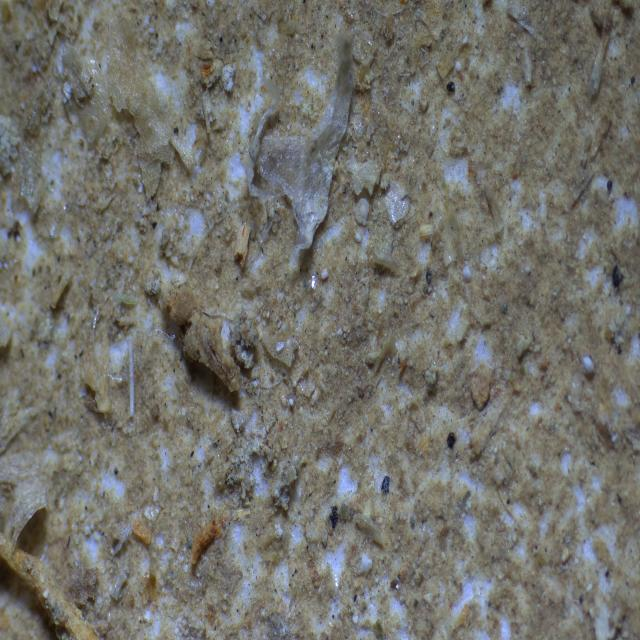microplastic: (227, 17, 366, 267), (375, 177, 412, 226)
